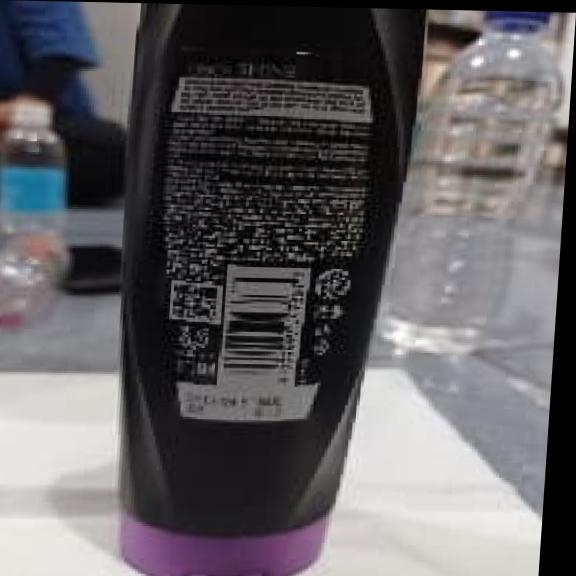Plastik: (101, 3, 433, 576)
